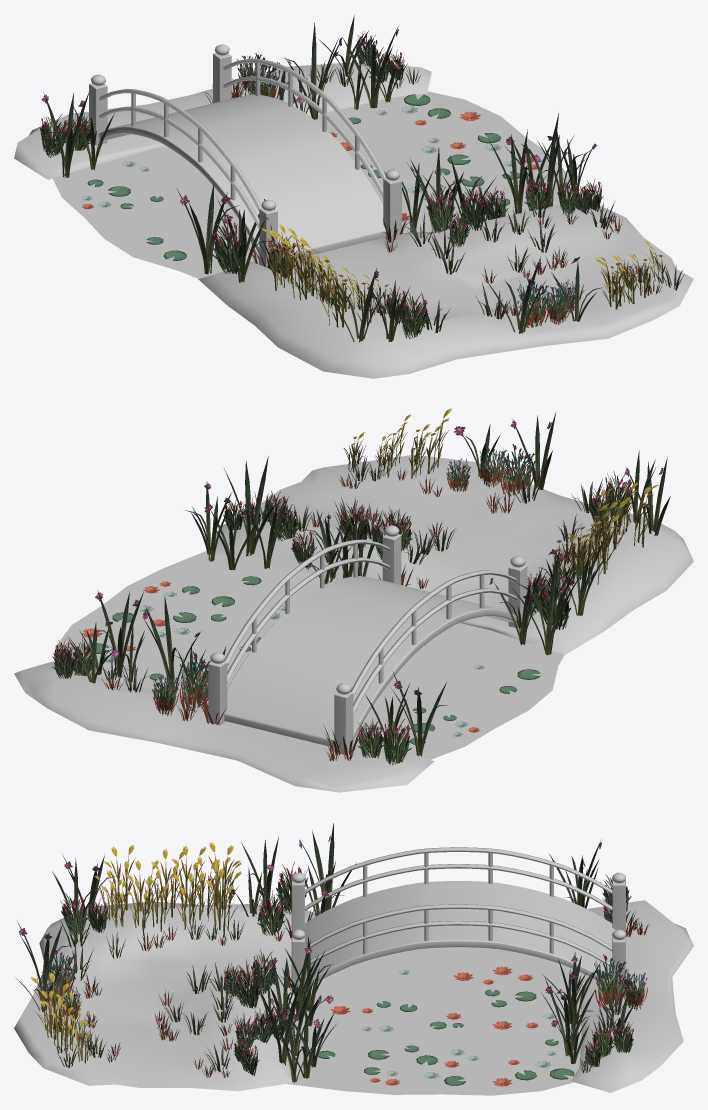
File: dioramafinal.fbx
The picture shows the model from 3 angles, top to bottom: view 1: azimuth 30°, elevation 25°; view 2: azimuth 150°, elevation 25°; view 3: azimuth 270°, elevation 25°; orthographic projection. The views are drawn at different scales.
Visible parts, largest first — view 1: terrain, bridge1, water, terrain1, watergrass12, bush10, watergrass26, watergrass7, bush3, idk1, watergrass16, bush11 (+12 smaller); view 2: terrain, bridge1, water, terrain1, watergrass12, idk3, watergrass1, idk1, watergrass16, watergrass15, watergrass26, bush14 (+16 smaller); view 3: terrain, water, bridge1, terrain1, pPlane21, pPlane22, idk3, bush9, watergrass12, watergrass16, bush4, watergrass15 (+29 smaller).
Boxes of the visible parts, box(x1,y1,x2,y2) form: terrain: box(198, 202, 693, 378); bridge1: box(89, 44, 401, 267); water: box(52, 91, 572, 278); terrain1: box(14, 62, 431, 179); watergrass12: box(176, 183, 239, 274); bush10: box(212, 218, 242, 273); watergrass26: box(41, 91, 89, 177); watergrass7: box(489, 129, 528, 214); bush3: box(425, 186, 456, 233); idk1: box(517, 278, 549, 327); watergrass16: box(342, 26, 398, 108); bush11: box(400, 292, 428, 338); terrain: box(215, 454, 693, 654); bridge1: box(208, 525, 527, 754); water: box(55, 551, 564, 759); terrain1: box(14, 661, 434, 792); watergrass12: box(511, 548, 583, 655); idk3: box(179, 651, 210, 711); watergrass1: box(224, 456, 276, 556); idk1: box(500, 444, 535, 496); watergrass16: box(95, 590, 143, 677); watergrass15: box(142, 595, 201, 693); watergrass26: box(391, 671, 447, 756); bush14: box(382, 717, 411, 765); terrain: box(14, 901, 315, 1091); water: box(283, 947, 586, 1095); bridge1: box(291, 847, 626, 995); terrain1: box(571, 900, 693, 1092); pPlane21: box(145, 868, 241, 937); pPlane22: box(95, 860, 159, 927); idk3: box(594, 954, 628, 1010); bush9: box(257, 890, 285, 935); watergrass12: box(299, 823, 356, 910); watergrass16: box(541, 977, 594, 1056); bush4: box(234, 964, 260, 1008); watergrass15: box(558, 952, 601, 1030).
Bounding box in the file's own units: 5.82 × 1.35 × 8.62.
